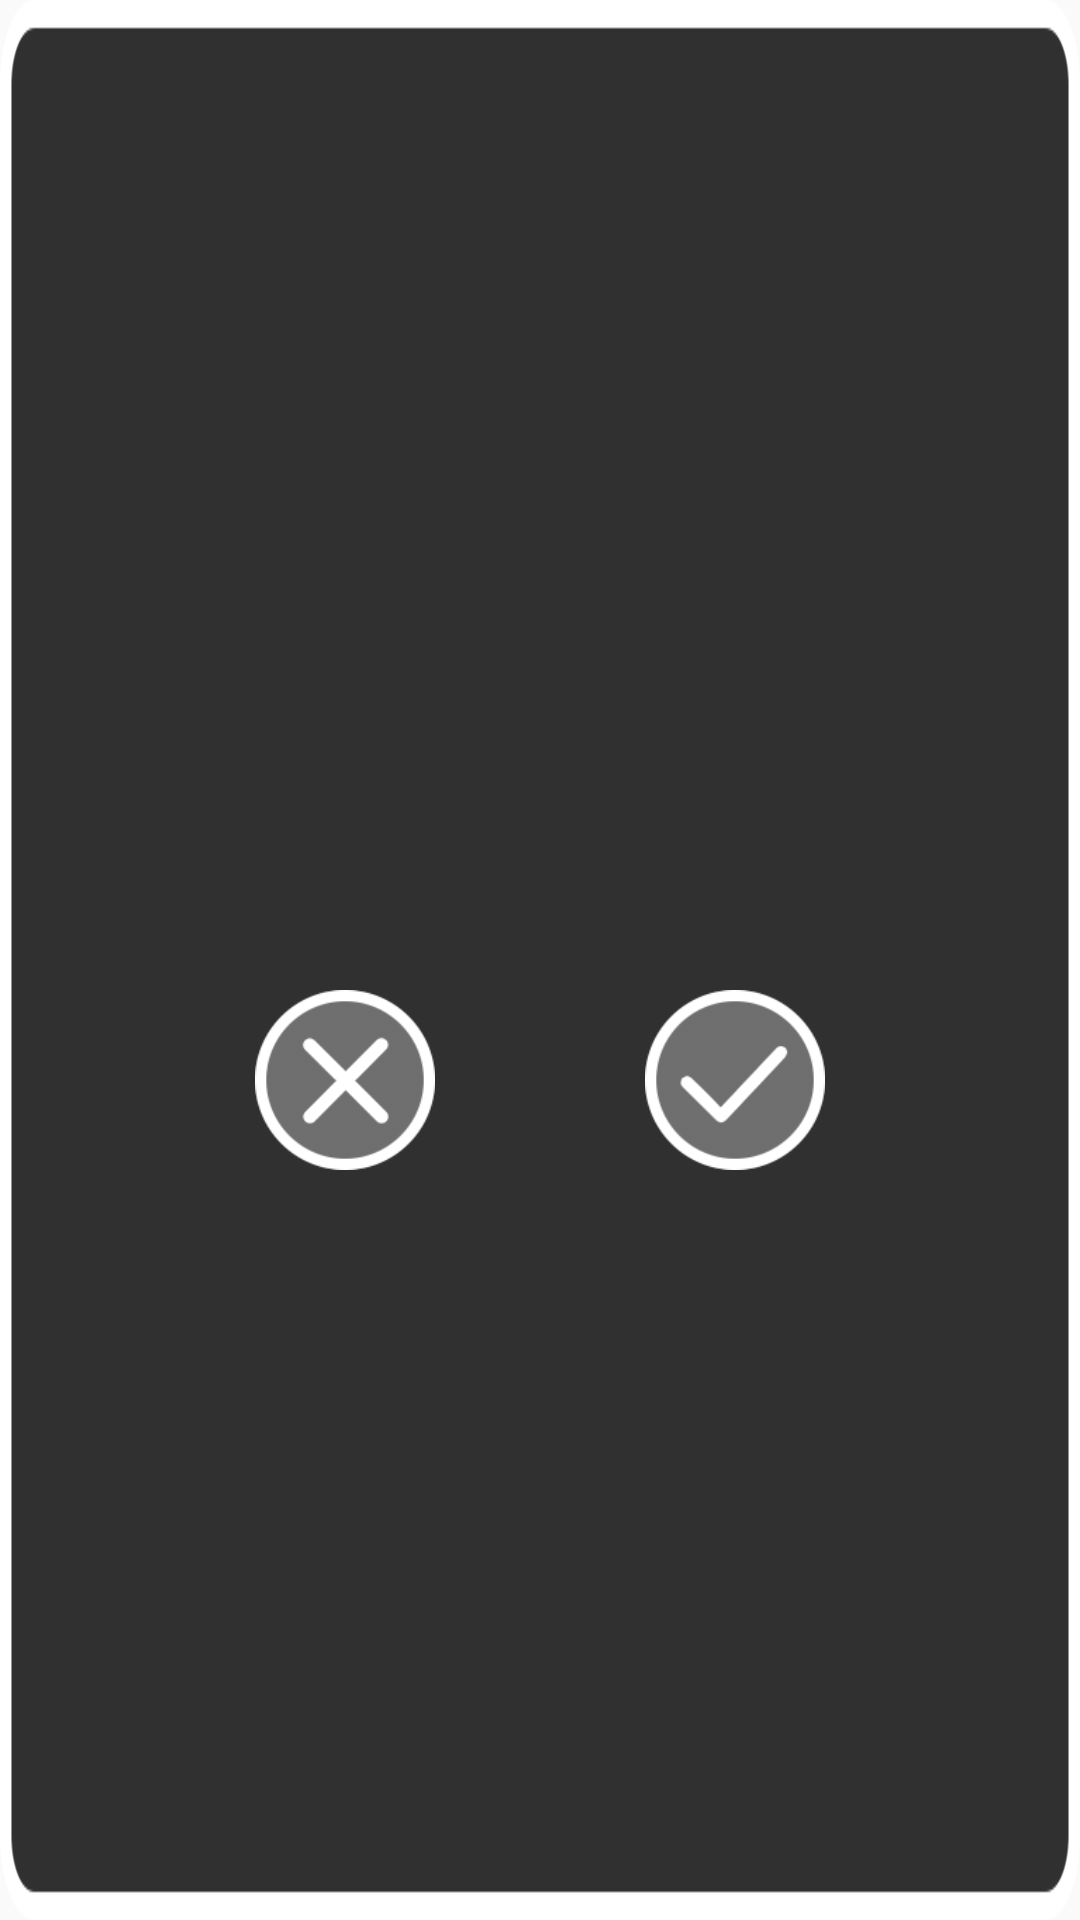

Icons on this 1080px x 1920px Android screen, each with the point to tap as point (x, y):
select: point (735, 1080)
select close: point (345, 1080)
